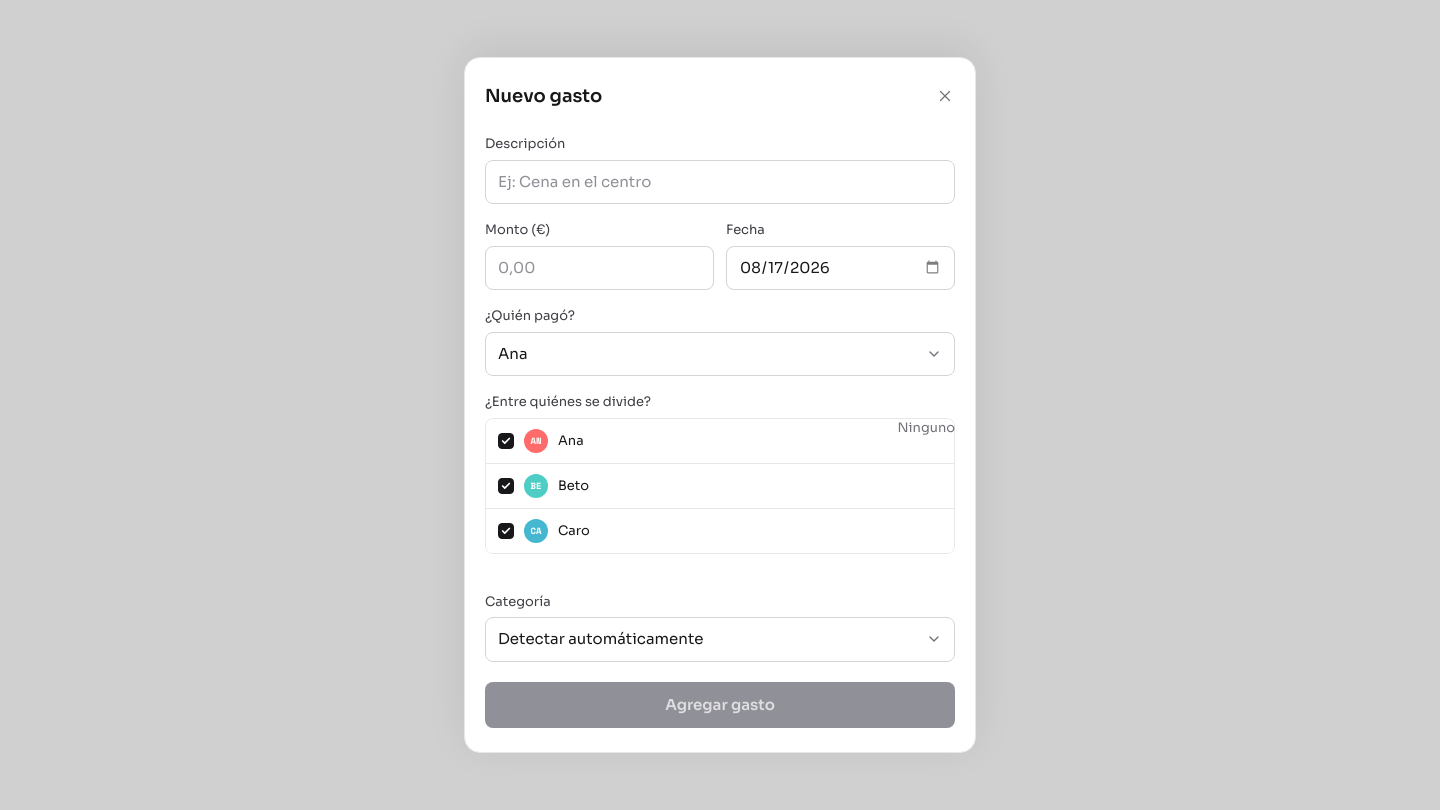
Test case: ExpenseSheet › no deja guardar sin participantes
In the field labelled "Descripción": [720, 182] box [485, 160, 955, 204], type "Cena"
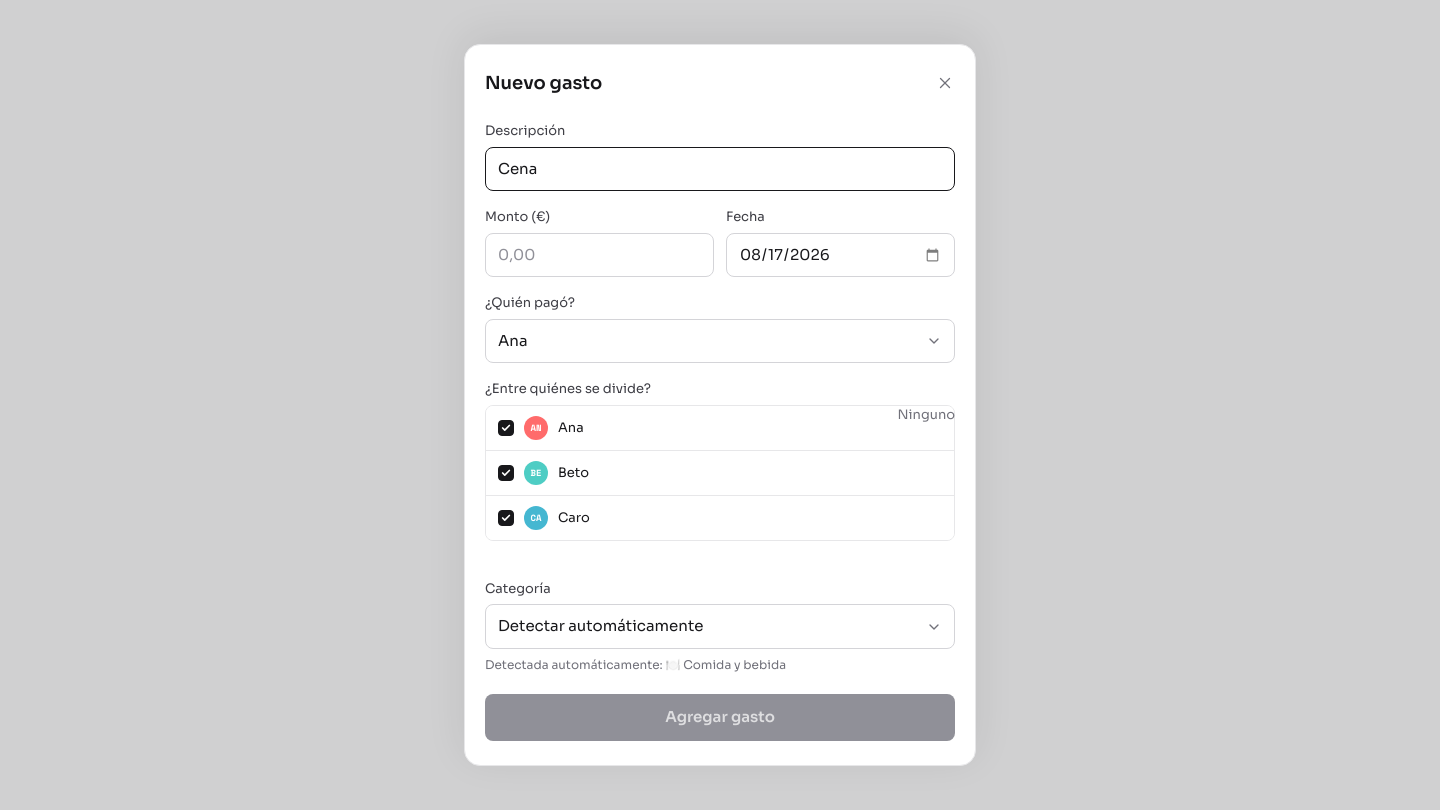
In the field labelled "Monto (€)": [600, 255] box [485, 233, 714, 277], type "30"
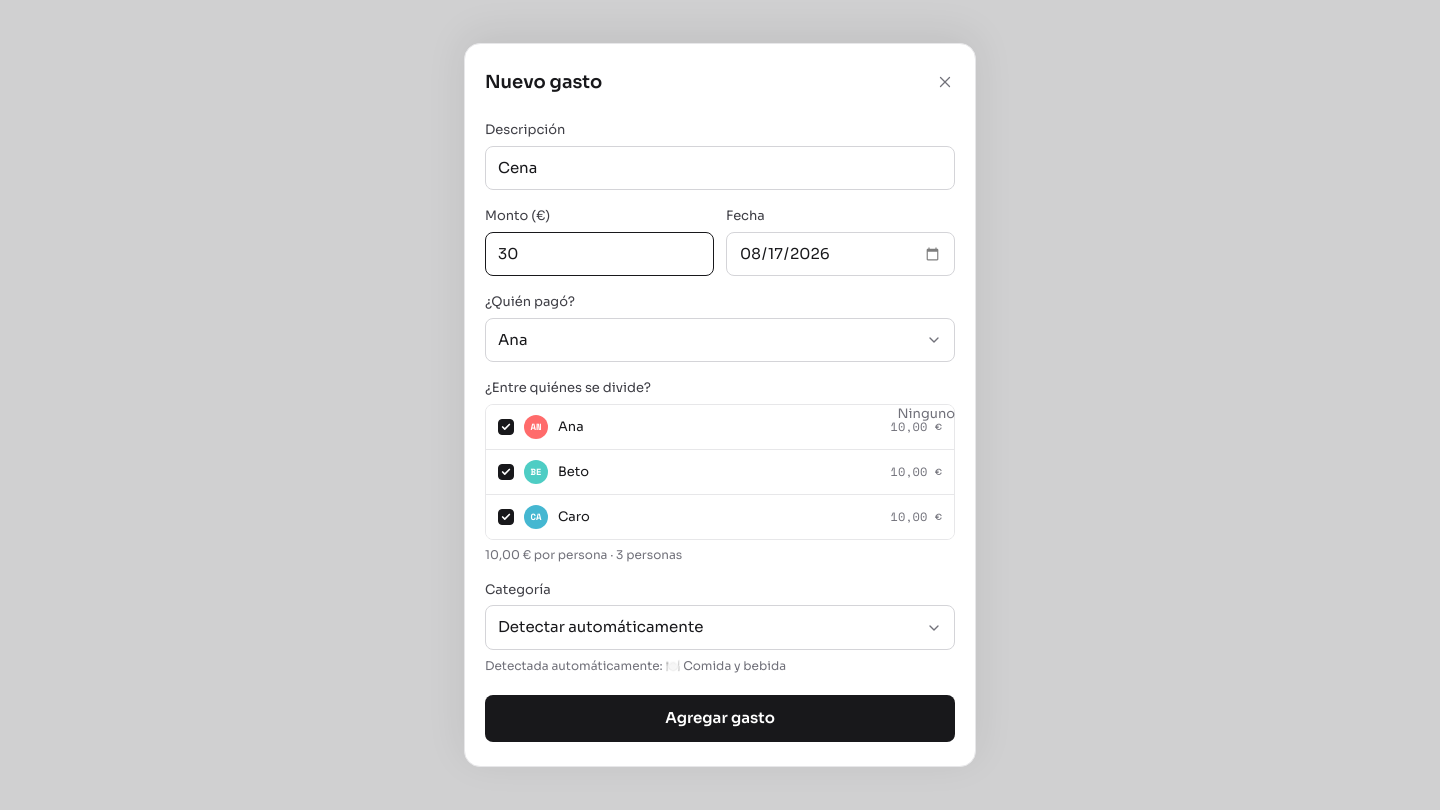
Click the button "Ninguno": [926, 414] box [898, 404, 955, 423]
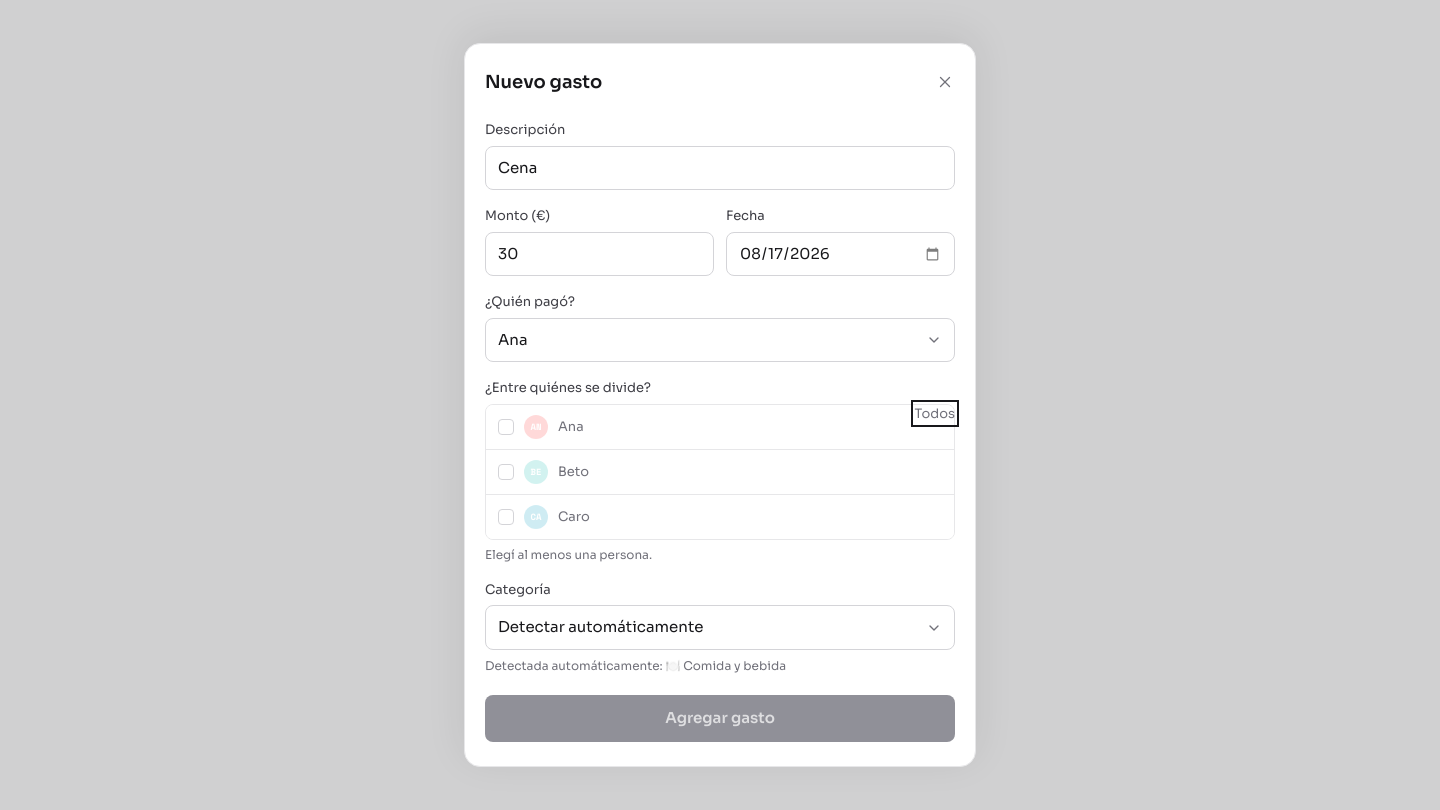
Now the button "Agregar gasto" is disabled, box [485, 695, 955, 742]
Now the text "Elegí al menos una persona." is shown, box [485, 547, 652, 562]
